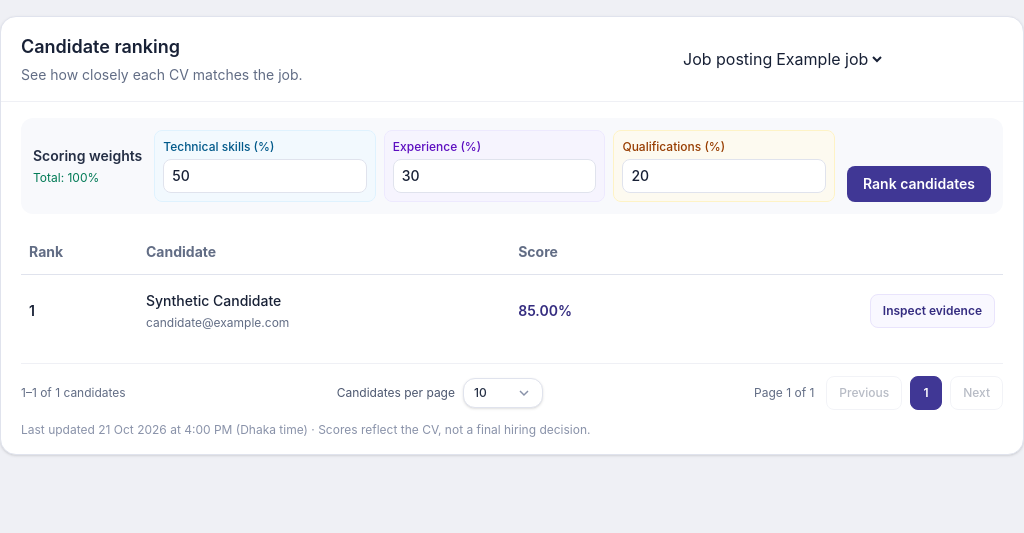
Test case: labels a partial ranking as incomplete instead of showing a green success
The width and height of the screenshot is (1024, 533).
expect the text "Synthetic Candidate" is shown: met, box [146,292,281,309]
Click the button "Rank candidates" at (919, 184), box [847,166,991,202]
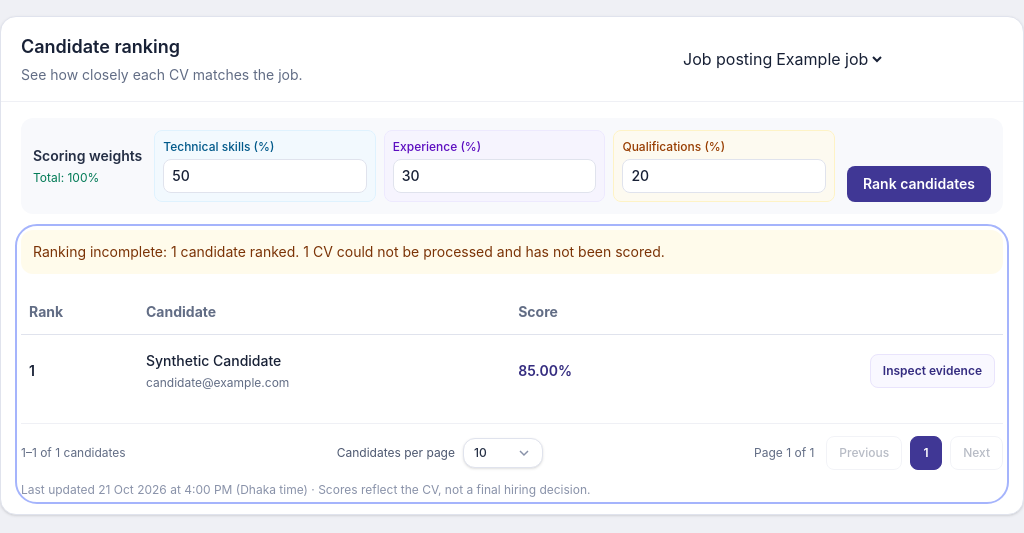
expect the text "Ranking incomplete: 1 candidate ranked" shows "1 CV could not be processed and has not been scored": met, box [33,243,665,260]
